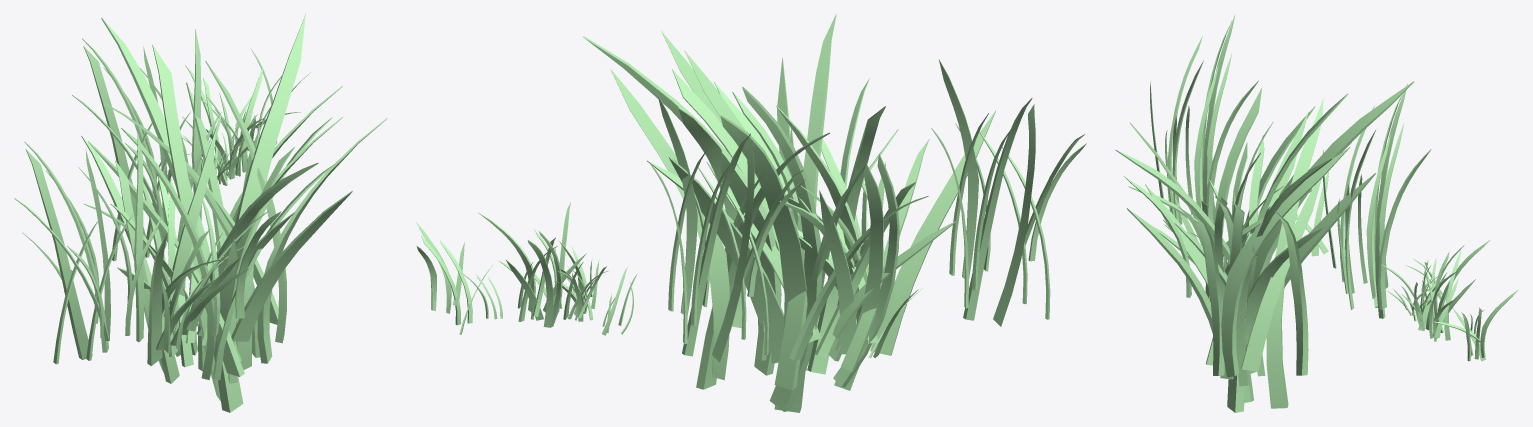
The model's file is sm_3dplants_03.gltf.
The picture shows the model from 3 angles, left to right: view 1: azimuth 30°, elevation 25°; view 2: azimuth 150°, elevation 25°; view 3: azimuth 270°, elevation 25°; orthographic projection. The views are drawn at different scales.
Parts seen in each view (by area): view 1: sm_3dplants_03; view 2: sm_3dplants_03; view 3: sm_3dplants_03.
Part boxes in pixels (x1,y1,x2,y2): sm_3dplants_03: (14, 14, 387, 412); sm_3dplants_03: (416, 14, 1086, 412); sm_3dplants_03: (1115, 14, 1517, 412).
Bounding box in the file's own units: 1.2 × 0.8726 × 1.02.
